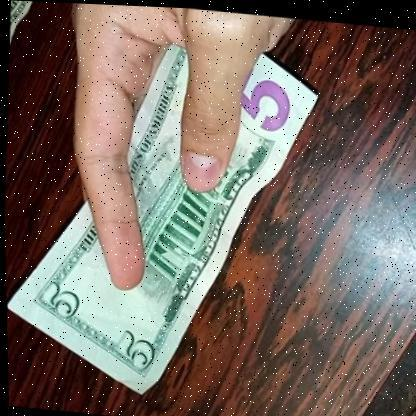five-back: (0, 20, 318, 410)
